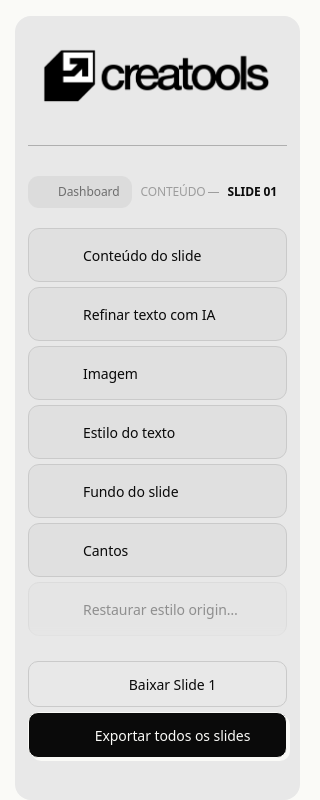
Test: TEMPLATE 1 — painel de imagem › slide COM imagem de fundo: mostra preview e os sliders
What coordinates should you click on to do the following:
click the button "Imagem"
I would click on:
 (158, 373)
Its box is [29,347,286,399].
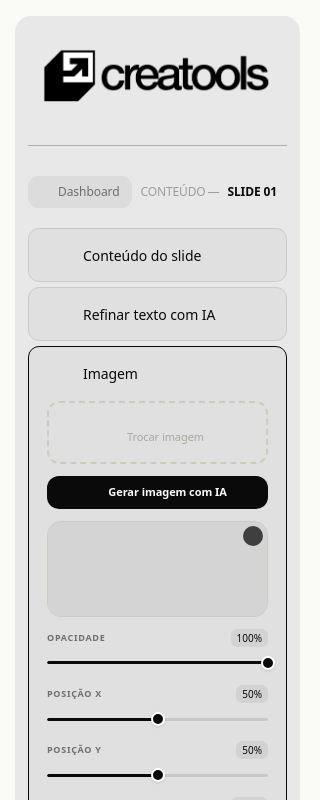
Now the text "Posição X" is shown, box [47,687,102,701]
Now the text "Posição Y" is shown, box [47,743,102,757]
Now the text "Opacidade" is shown, box [47,631,106,644]
